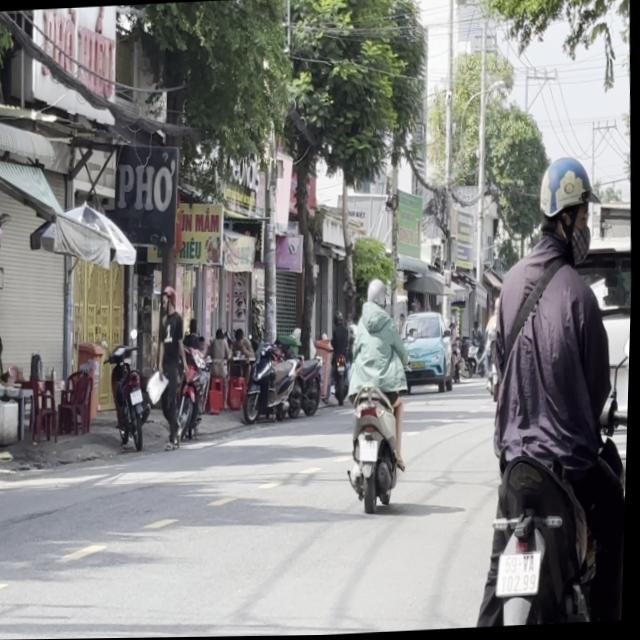helmet: (536, 154, 597, 258), (366, 277, 388, 310)
licenseplate: (457, 147, 636, 628), (339, 274, 418, 514)
nohelmet: (498, 552, 544, 596), (361, 439, 381, 463)
